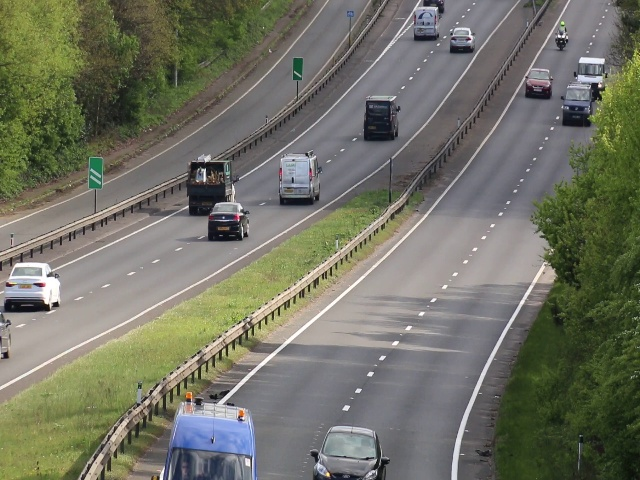car: (168, 404, 256, 480), (316, 428, 385, 480), (4, 260, 66, 312), (182, 157, 237, 215), (277, 154, 321, 204), (207, 201, 250, 242), (361, 94, 400, 139), (562, 85, 592, 125), (412, 5, 440, 41), (524, 65, 551, 99), (447, 24, 477, 53), (576, 54, 604, 85)
